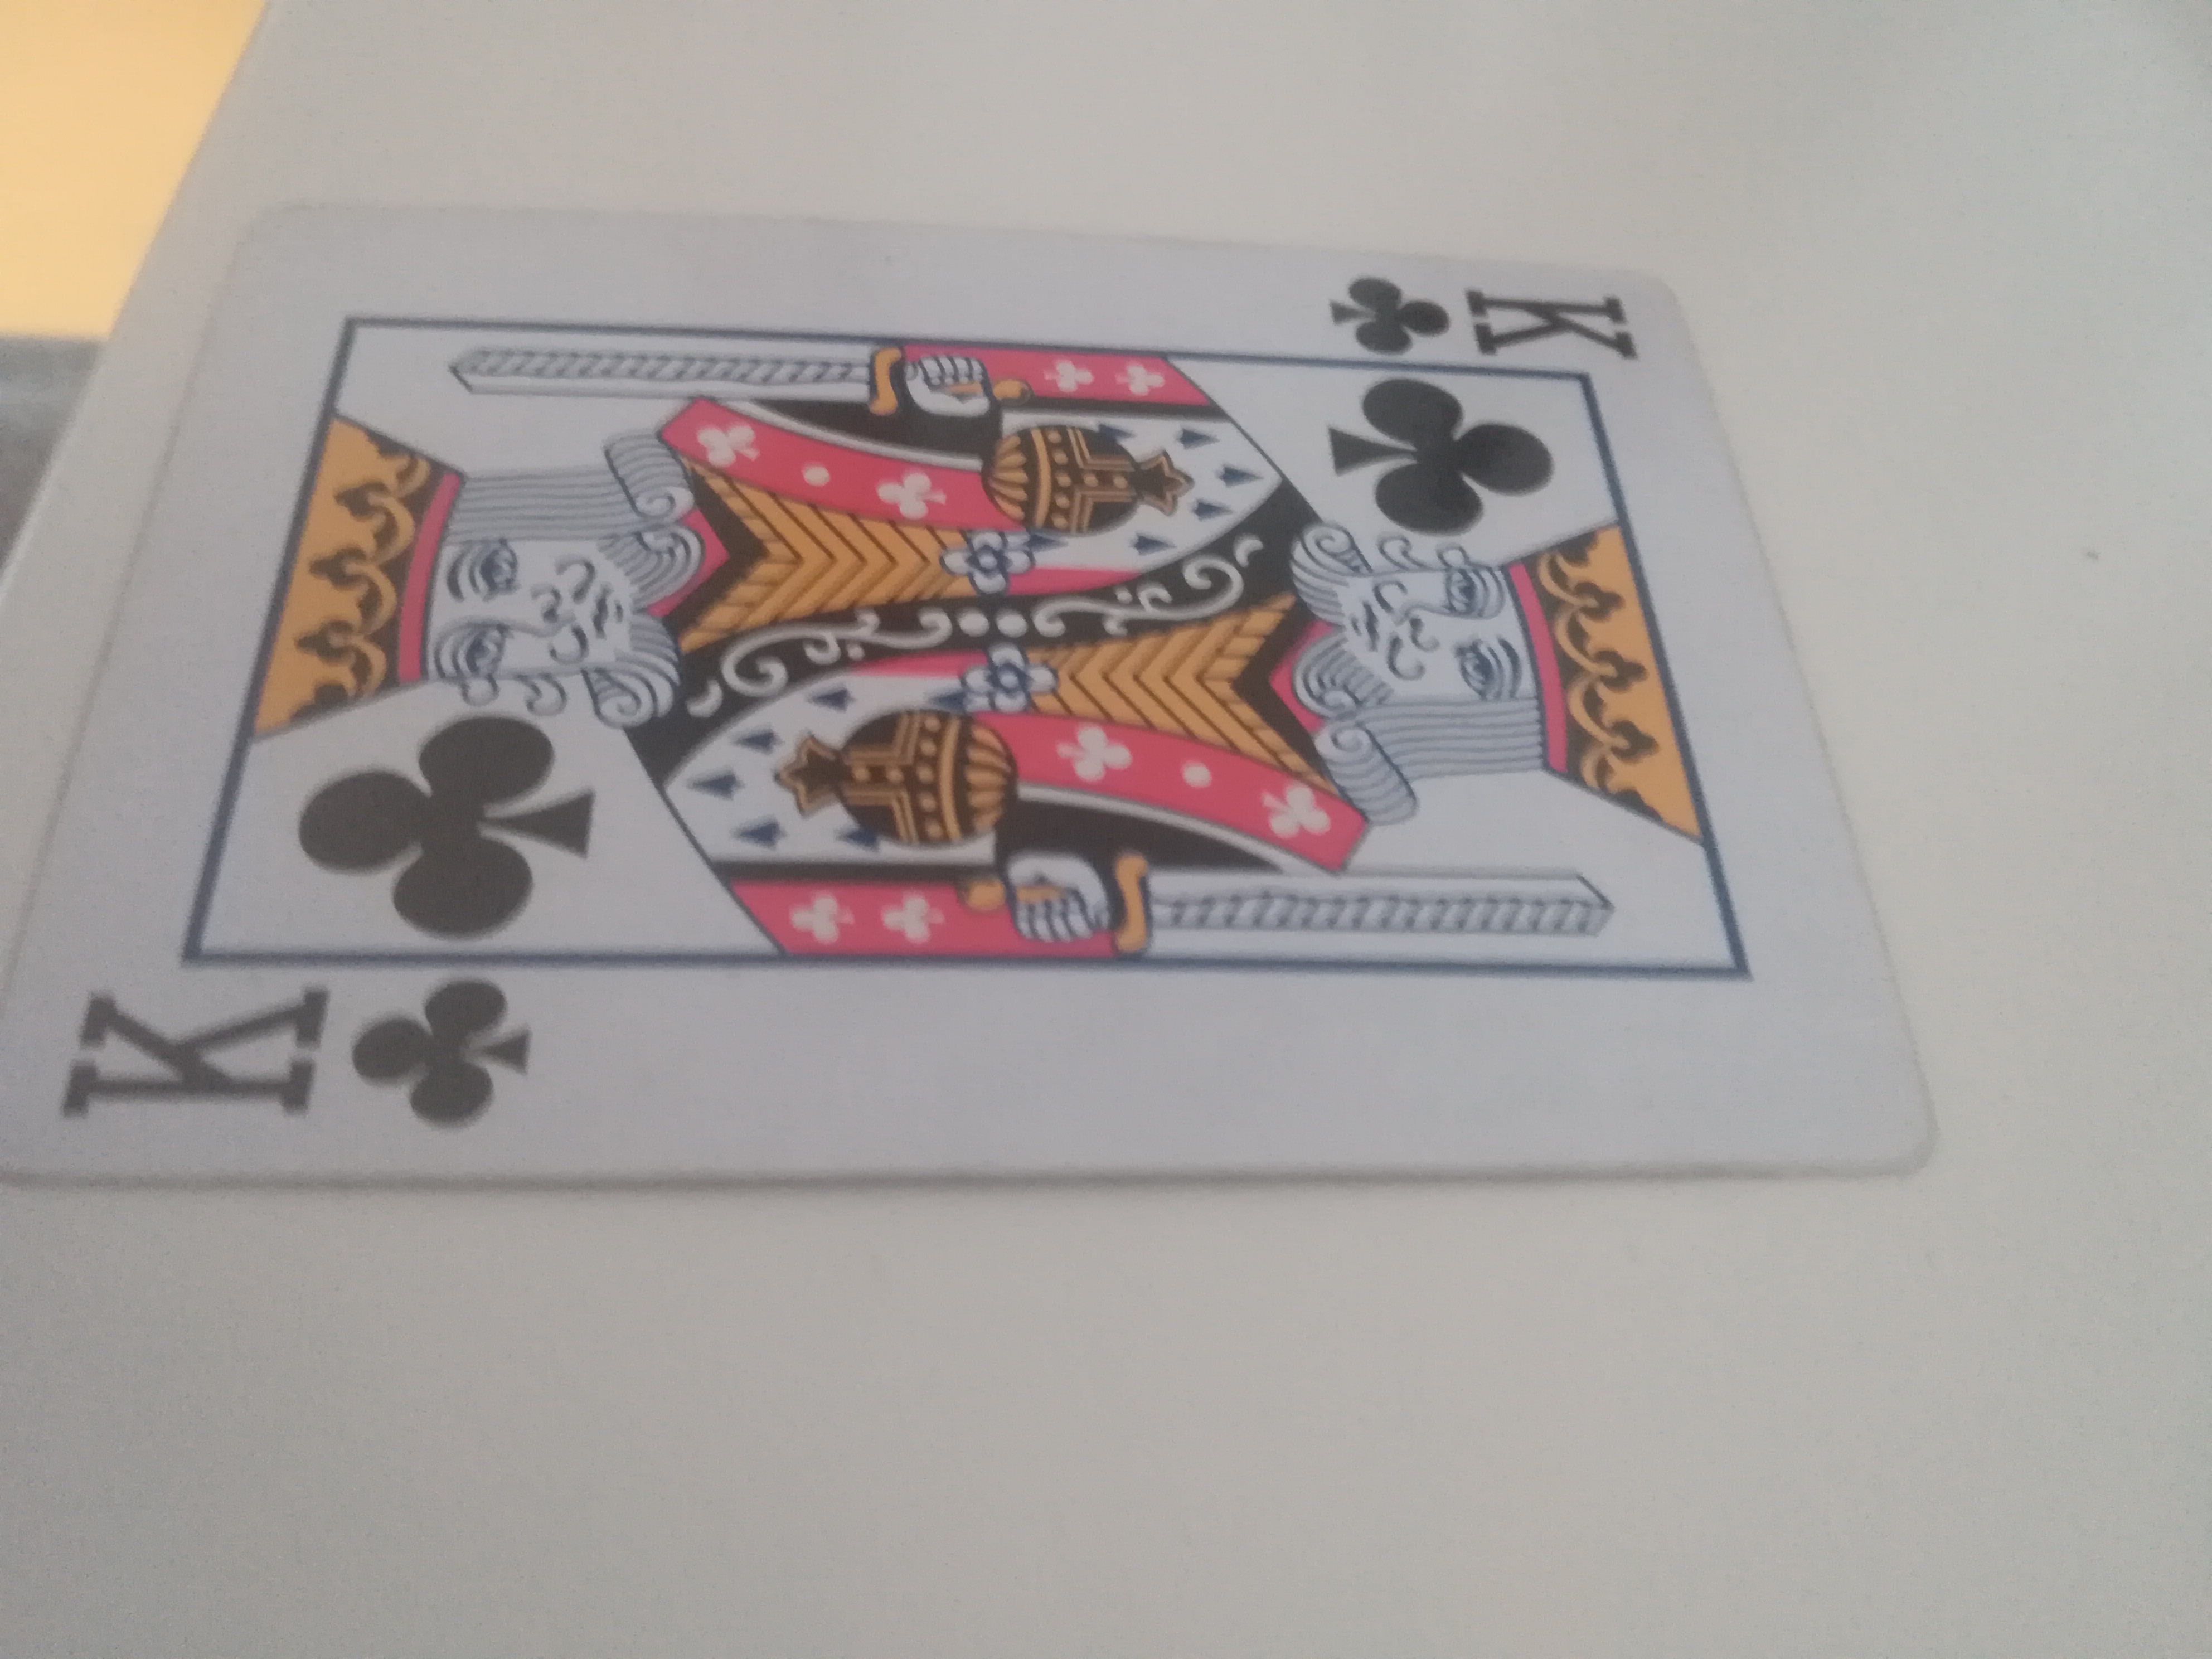KC: (0, 200, 1958, 1209)
